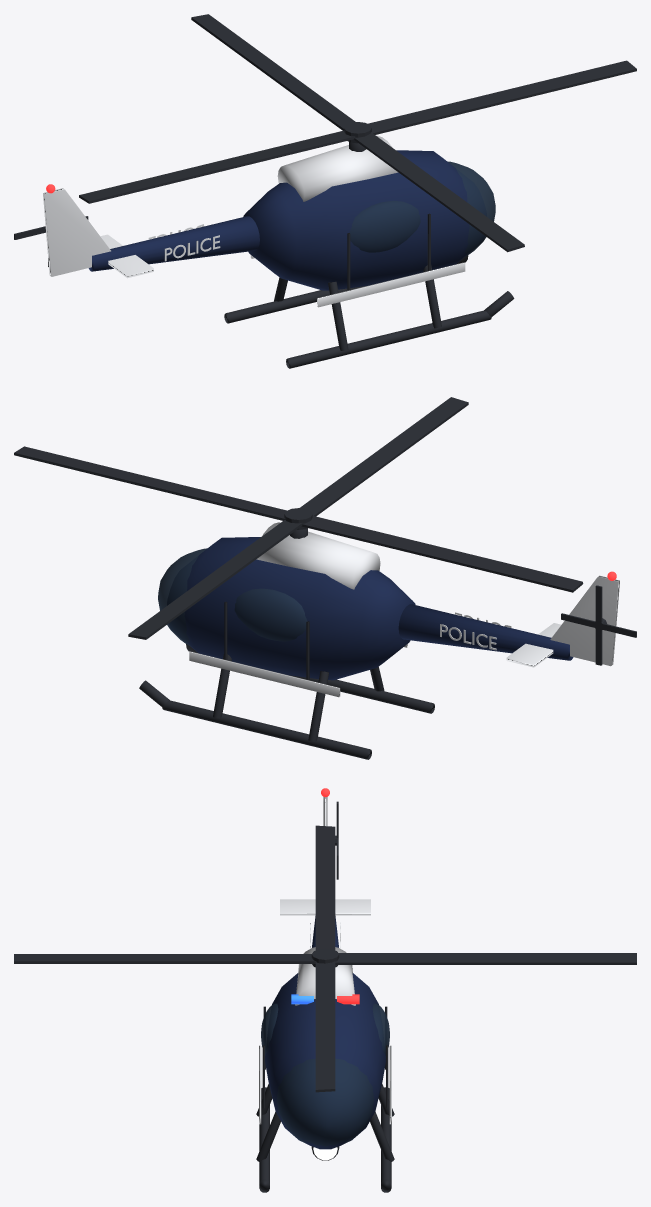
Rendered from heli_police.glb.
The picture shows the model from 3 angles, top to bottom: view 1: azimuth 30°, elevation 25°; view 2: azimuth 150°, elevation 25°; view 3: azimuth 270°, elevation 25°; orthographic projection. The views are drawn at different scales.
Parts seen in each view (by area): view 1: body, rotor; view 2: body, rotor, tailrotor; view 3: body, rotor.
Boxes of the visible parts, bbox=[...] form: body: bbox=[43, 136, 514, 368]; rotor: bbox=[79, 14, 636, 252]; body: bbox=[139, 522, 619, 759]; rotor: bbox=[14, 397, 583, 639]; tailrotor: bbox=[561, 585, 636, 665]; body: bbox=[256, 788, 394, 1192]; rotor: bbox=[14, 825, 636, 1092].
Bounding box in the file's own units: 91.5 × 30.26 × 82.
